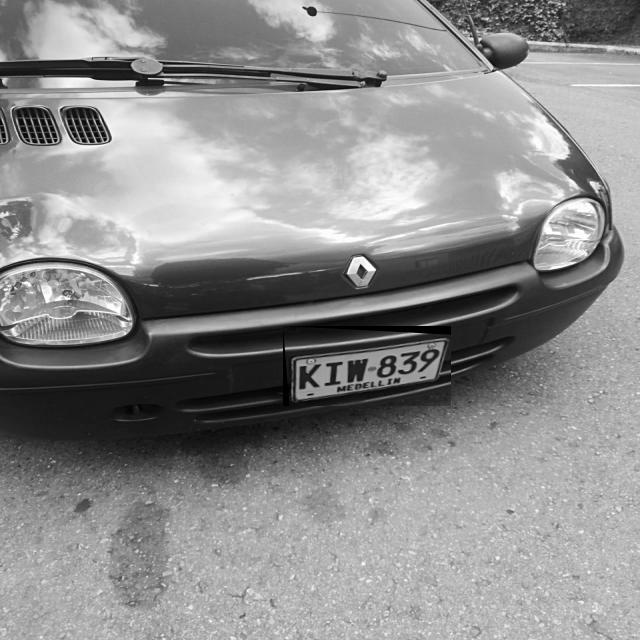plate: (289, 333, 451, 406)
